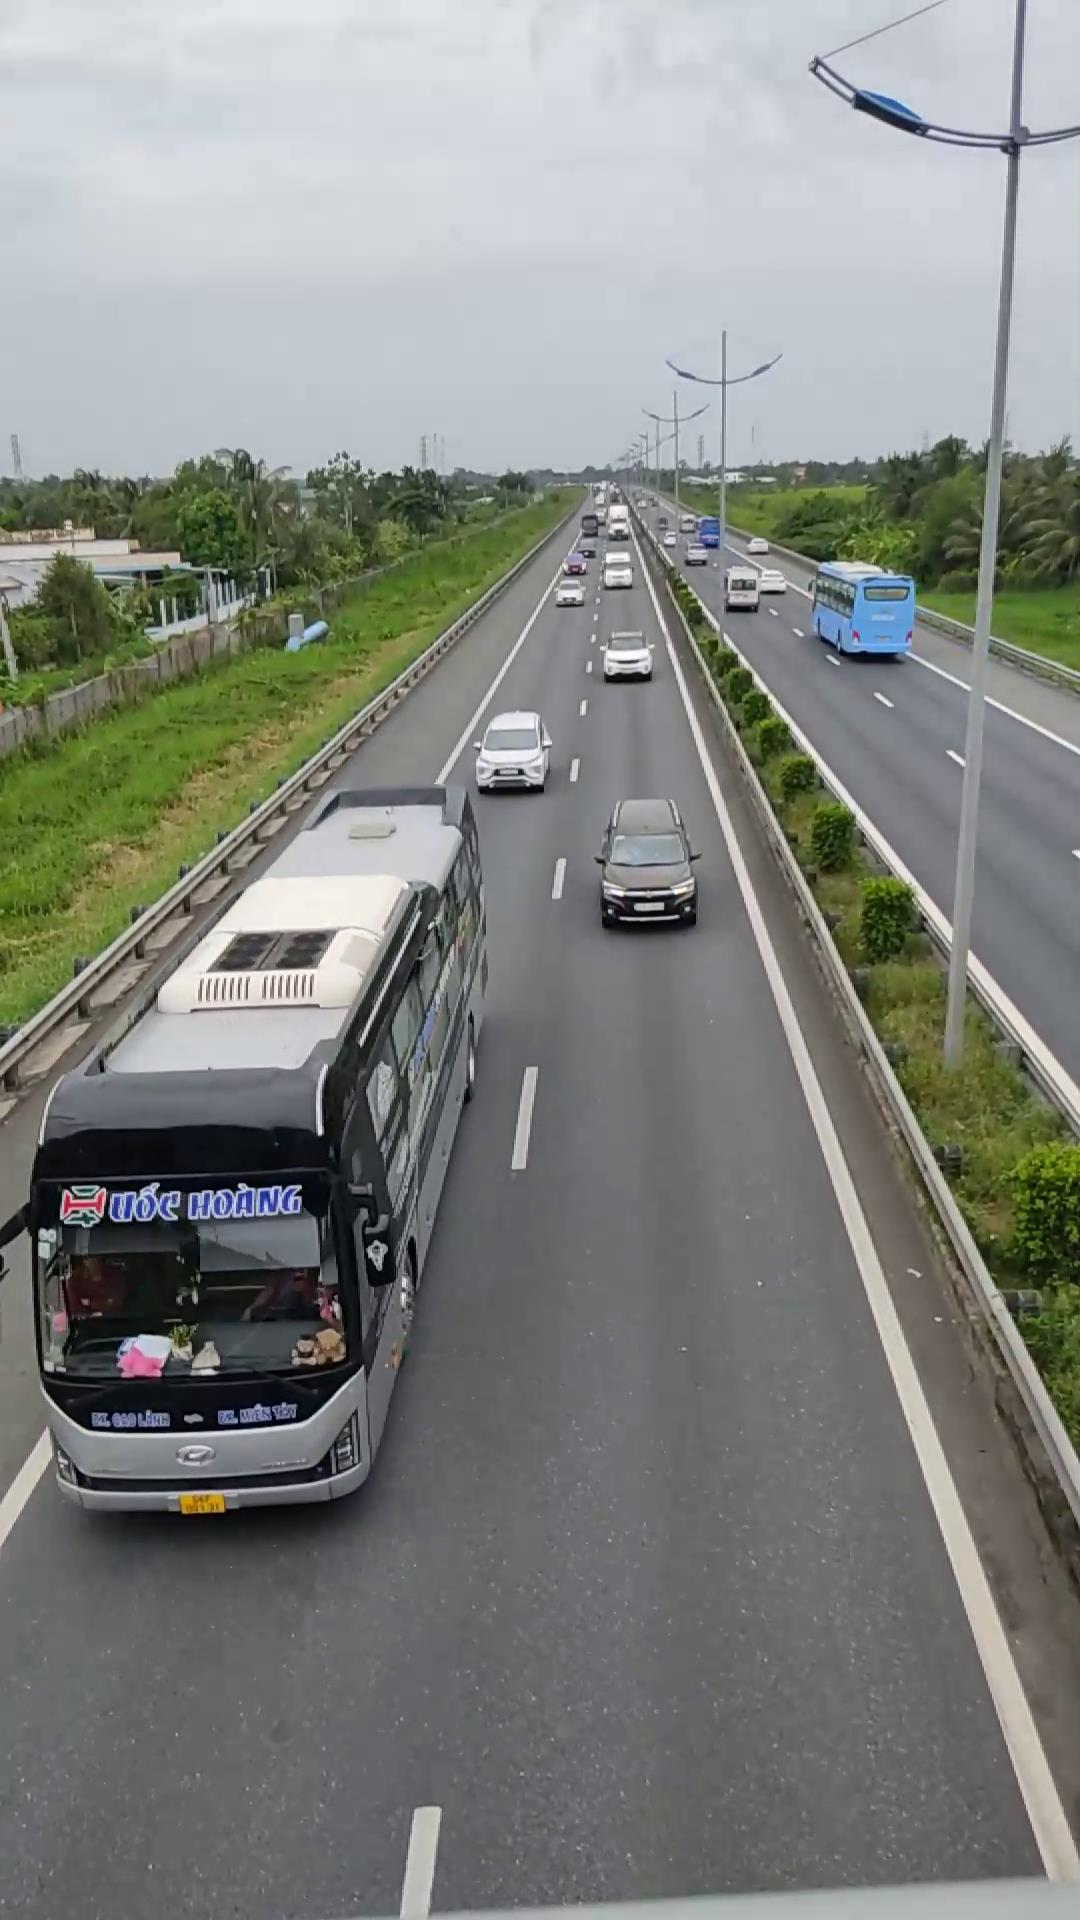bus: (18, 781, 489, 1510)
car: (593, 796, 700, 927), (472, 709, 553, 793)
